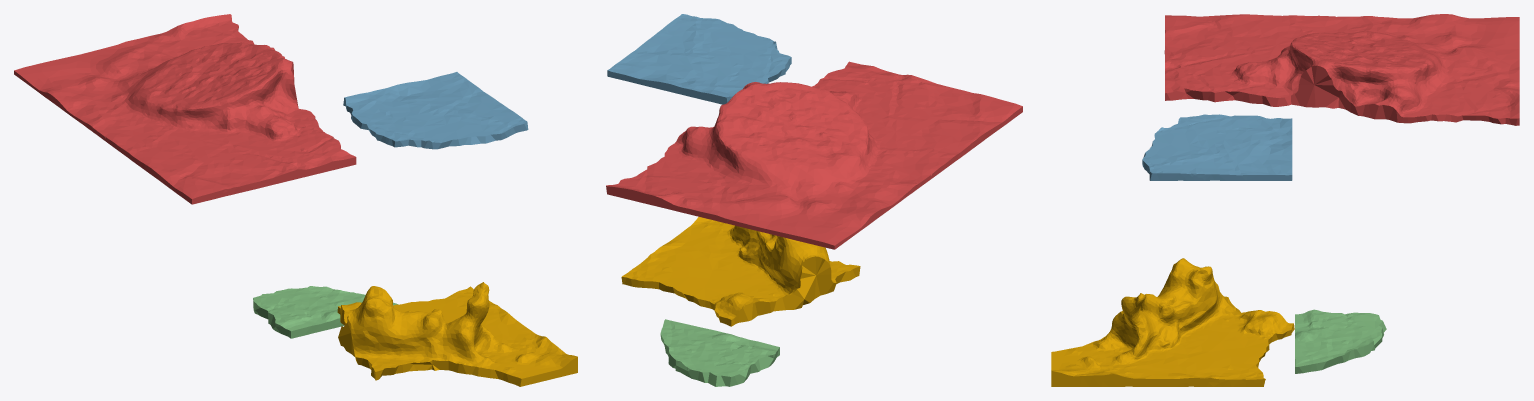
The model's file is fractured_26_4pcs_transformed.glb.
3 views of the same model, side by side, from view 1: azimuth 30°, elevation 25°; view 2: azimuth 150°, elevation 25°; view 3: azimuth 270°, elevation 25° (orthographic). The views are drawn at different scales.
Visible parts, largest first — view 1: piece_1.obj, piece_0.obj, piece_2.obj, piece_3.obj; view 2: piece_1.obj, piece_0.obj, piece_2.obj, piece_3.obj; view 3: piece_1.obj, piece_0.obj, piece_2.obj, piece_3.obj.
Part boxes in pixels (bbox=[...]): piece_1.obj: bbox=[14, 14, 356, 204]; piece_0.obj: bbox=[337, 282, 577, 386]; piece_2.obj: bbox=[343, 72, 528, 149]; piece_3.obj: bbox=[253, 286, 398, 338]; piece_1.obj: bbox=[606, 61, 1022, 249]; piece_0.obj: bbox=[621, 217, 860, 326]; piece_2.obj: bbox=[607, 14, 791, 104]; piece_3.obj: bbox=[660, 319, 779, 386]; piece_1.obj: bbox=[1164, 14, 1519, 125]; piece_0.obj: bbox=[1051, 258, 1294, 386]; piece_2.obj: bbox=[1142, 114, 1292, 180]; piece_3.obj: bbox=[1295, 309, 1386, 373].
Size of the model in its own units: 1 by 0.7707 by 1.24.
